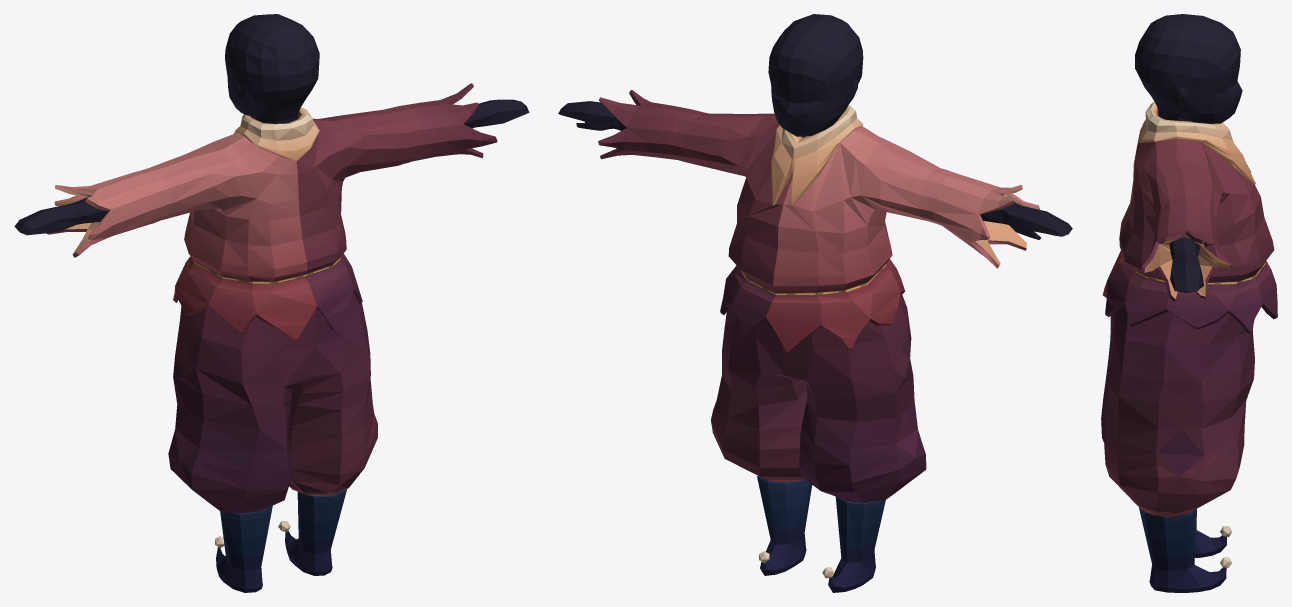
The model's file is CharSkyNPC_Body_AP14JesterPants_01.glb.
3 views of the same model, side by side, from view 1: azimuth 30°, elevation 25°; view 2: azimuth 150°, elevation 25°; view 3: azimuth 270°, elevation 25° (orthographic).
Visible parts, largest first — view 1: CharSkyNPC_Body_AP14JesterPants_01; view 2: CharSkyNPC_Body_AP14JesterPants_01; view 3: CharSkyNPC_Body_AP14JesterPants_01.
Boxes of the visible parts, x1=… form: CharSkyNPC_Body_AP14JesterPants_01: x1=14, y1=14, x2=529, y2=592; CharSkyNPC_Body_AP14JesterPants_01: x1=558, y1=14, x2=1072, y2=592; CharSkyNPC_Body_AP14JesterPants_01: x1=1101, y1=14, x2=1277, y2=592.
Bounding box in the file's own units: 14.41 × 14.93 × 4.34.
1 material, 1 textured.
